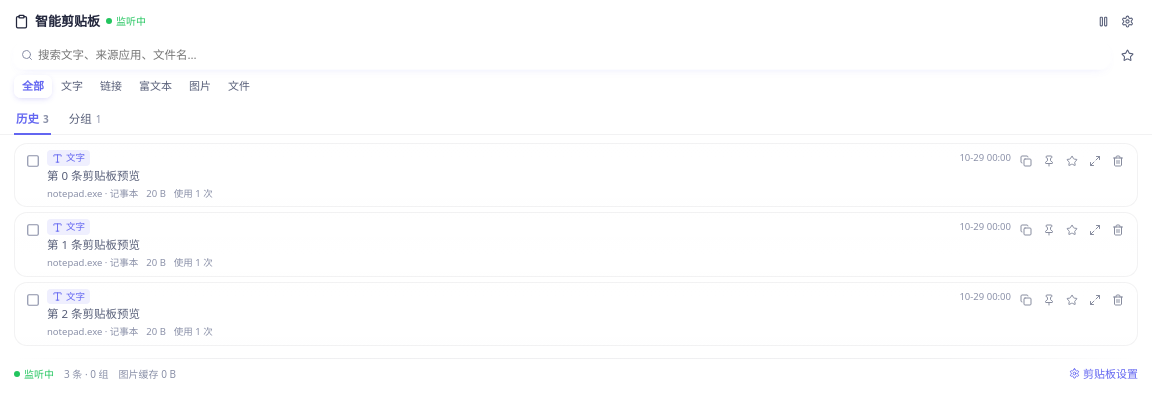
Test: 剪贴板主页面 › 切到分组页签展示分组视图
Check: the text "第 0 条剪贴板预览" is shown, box [47,168,140,185]
Click the tab "分组 1" at (85, 120), box [67,106,103,135]
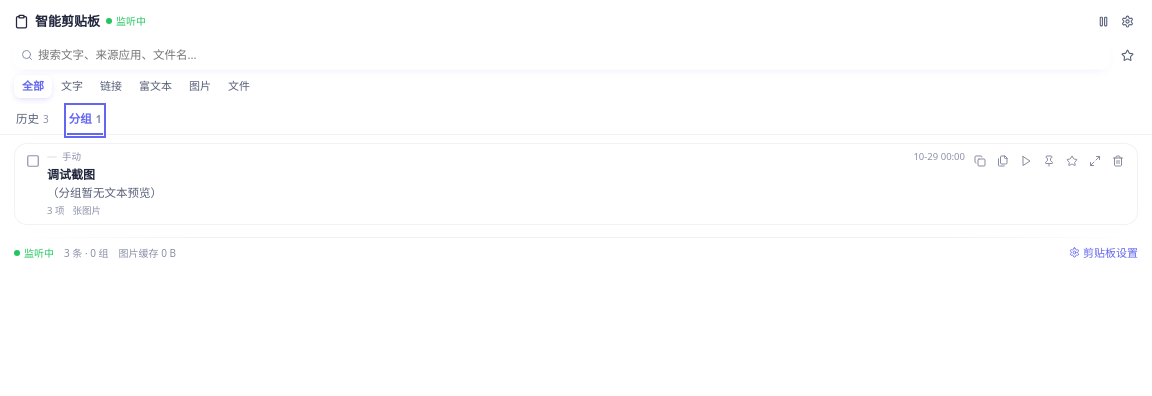
Check: the text "调试截图" is shown, box [47,166,95,183]
